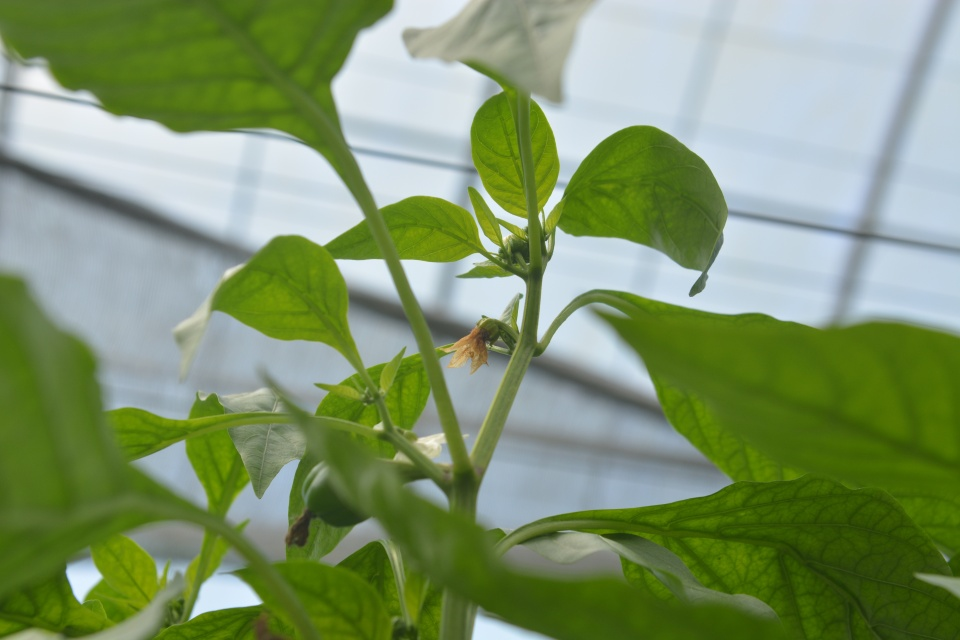immature: (284, 456, 404, 548)
